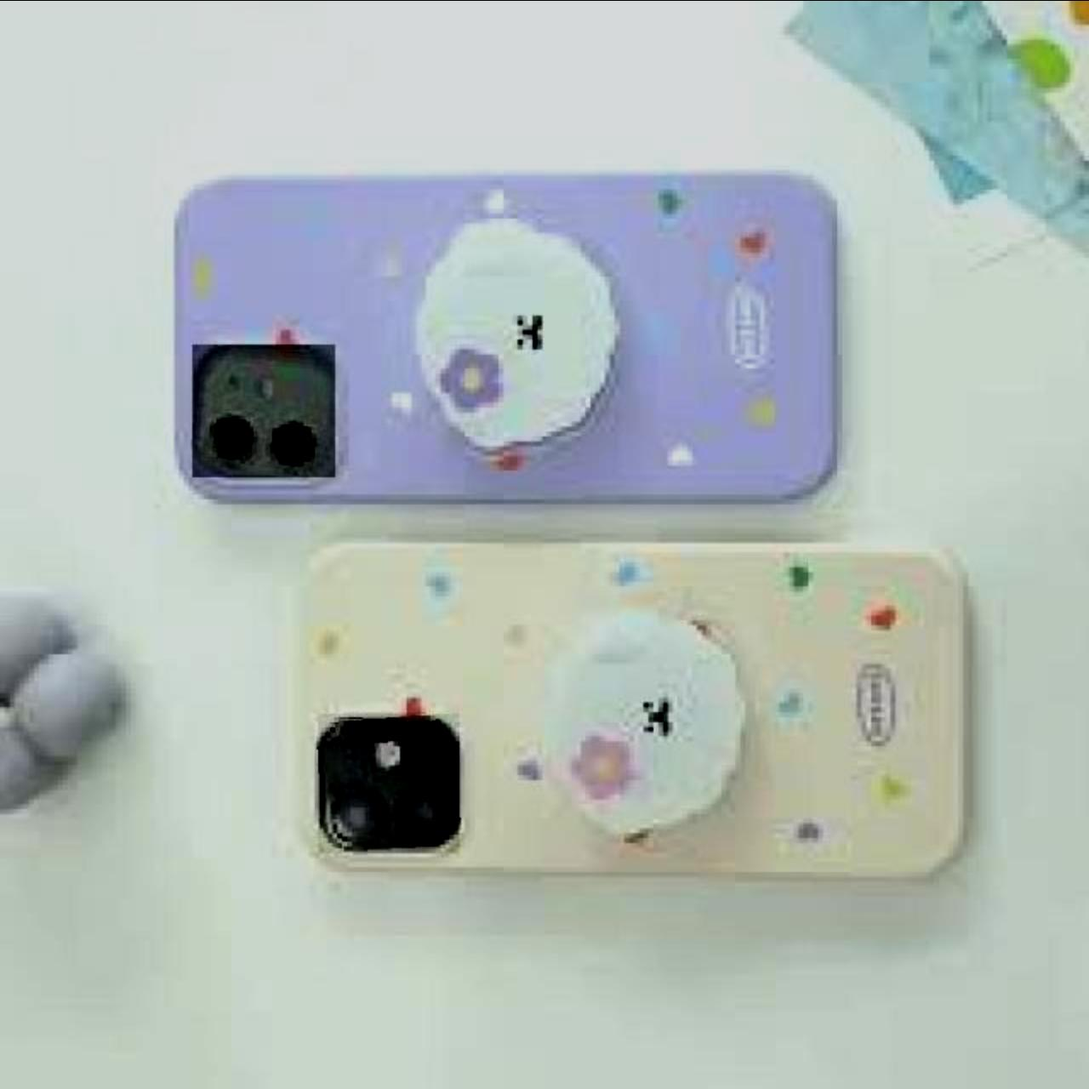phone: (158, 158, 847, 514), (293, 531, 975, 878)
